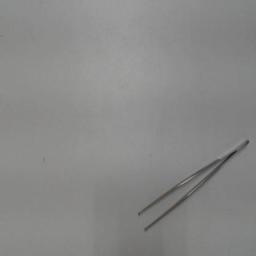Gillies Toothed Dissector: (132, 132, 250, 234)
